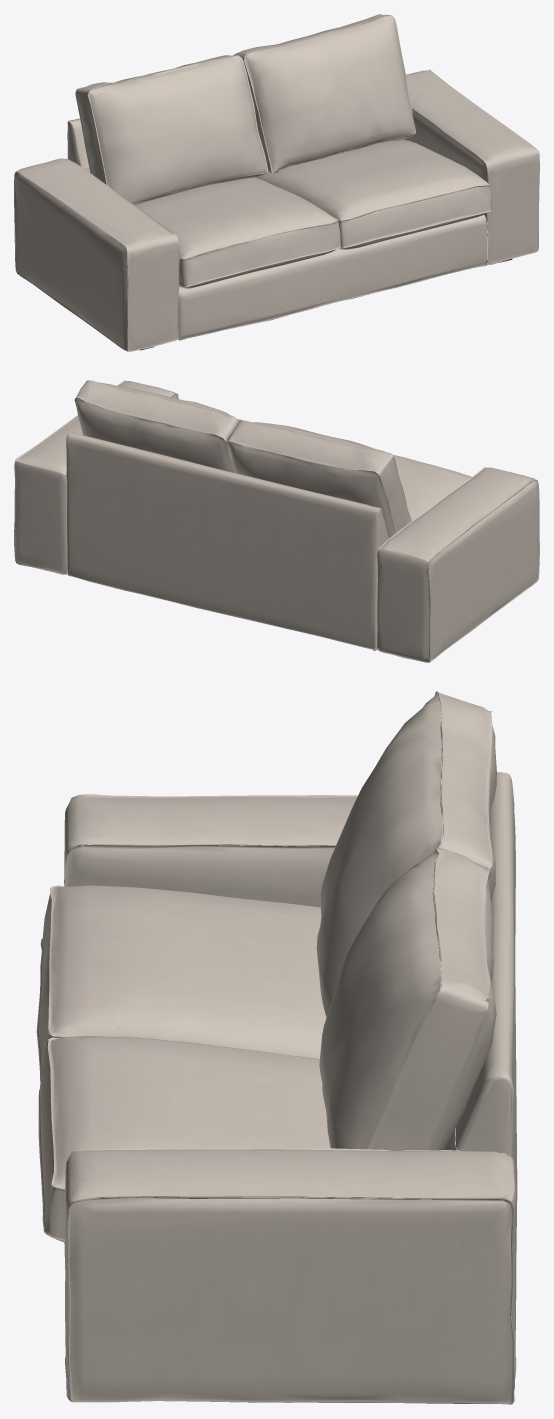
3 renders of one model, top to bottom at view 1: azimuth 30°, elevation 25°; view 2: azimuth 150°, elevation 25°; view 3: azimuth 270°, elevation 25°, orthographic. The views are drawn at different scales.
Visible parts, largest first — view 1: Mesh_0; view 2: Mesh_0; view 3: Mesh_0.
Part boxes in pixels (x1,y1,x2,y2): Mesh_0: (14,14,539,351); Mesh_0: (14,380,539,662); Mesh_0: (36,691,517,1404).
Bounding box in the file's own units: 1.9 × 0.8299 × 0.9501.
2 materials, 2 textured.
